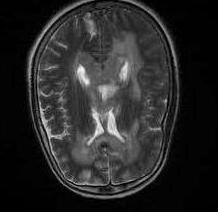Normal_Brain: (1, 1, 218, 212)
